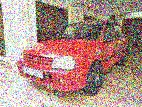car: (16, 19, 130, 95)
